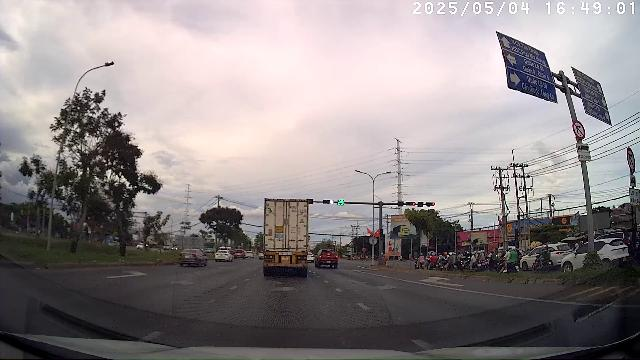123b-cam-re-phai: (572, 120, 586, 140), (626, 147, 636, 173)
